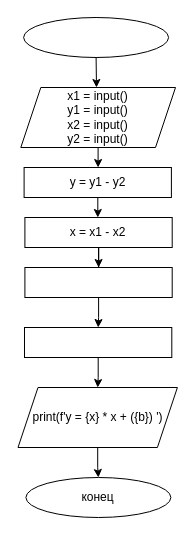
Image size: 195x535. Some labels were removed from this diagram. The shapes that lost their labels are listed below. From the top down, each one's box as (x1, y1, x2, y2) in pixels, then its label:
(23, 16, 169, 58): начало
(24, 266, 172, 298): k = y / x
(24, 326, 172, 358): b = y1 - k * x1
